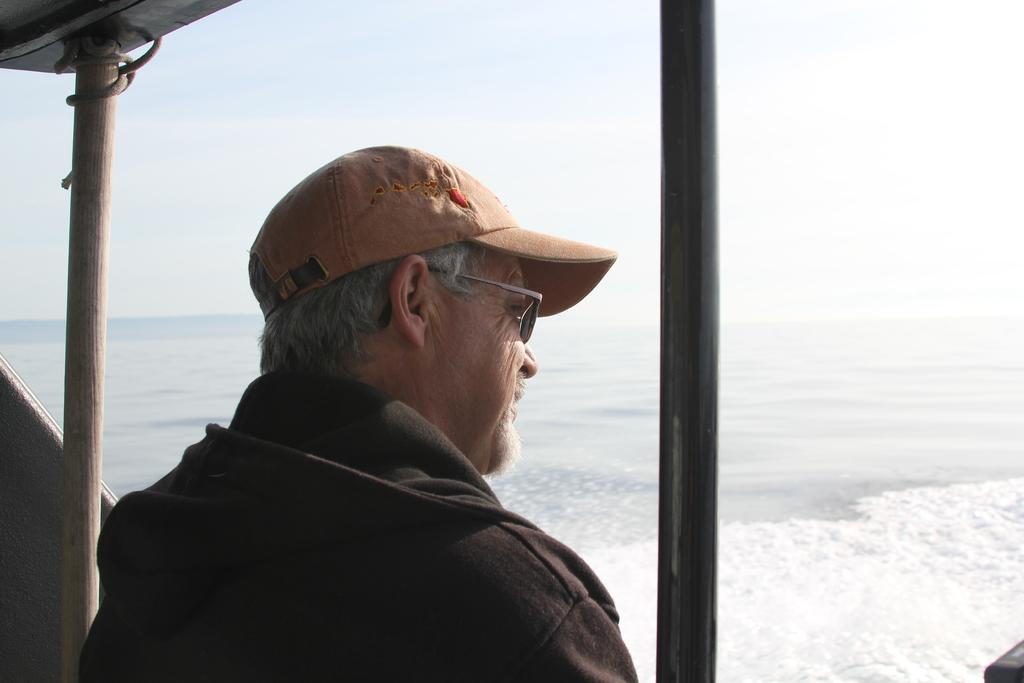Hat: (246, 145, 616, 319)
